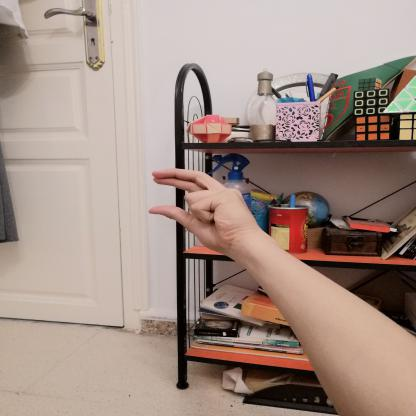DHELL: (138, 160, 260, 258)
